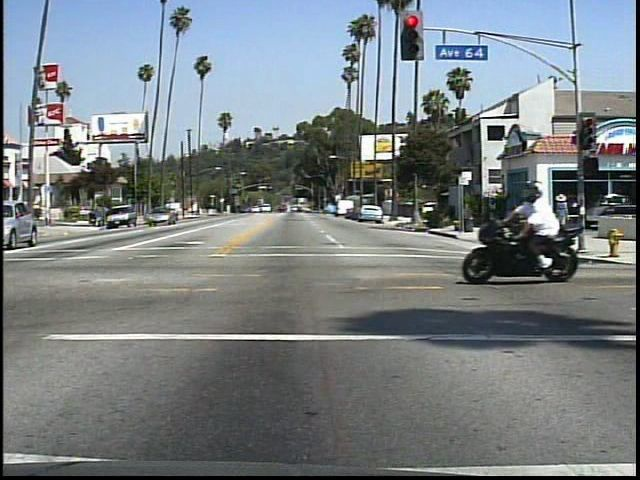person: (511, 176, 573, 281), (547, 191, 574, 244)
